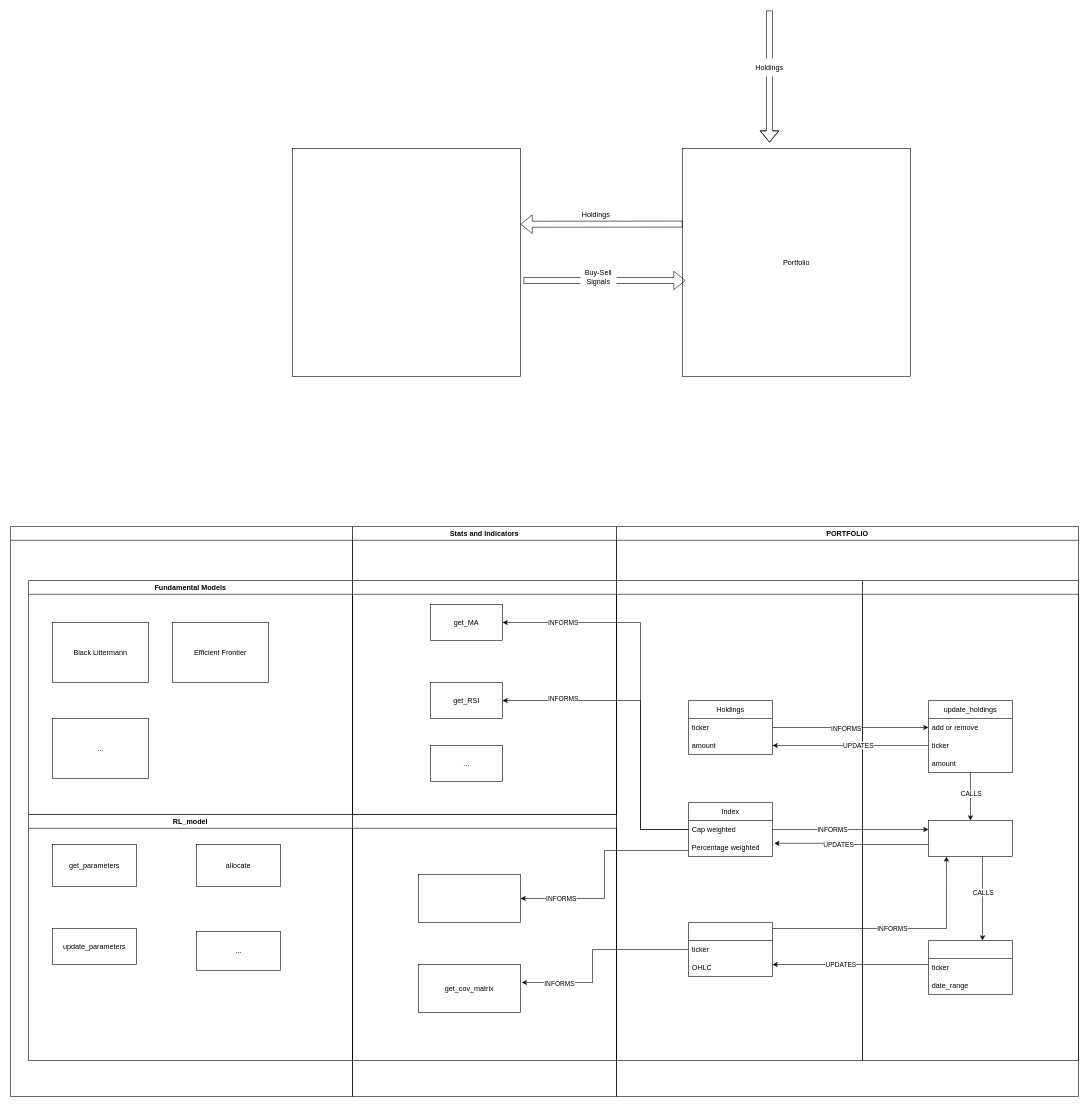
Some shapes in this 1089 by 1107 pixel diagram are drawn without their labels. Each missing label, with the box of its shape:
BT Framework: (292, 148, 520, 376)
Data: (688, 922, 772, 976)
get_volatility: (418, 874, 520, 922)
Indicators Methods: (352, 580, 616, 814)
MODELS: (10, 526, 352, 1096)
Portfolio Attributes: (616, 580, 862, 1060)
Portfolio Methods: (862, 580, 1078, 1060)
Stats Methods: (352, 814, 616, 1060)
update_data: (928, 940, 1012, 994)
update_index: (928, 820, 1012, 856)
